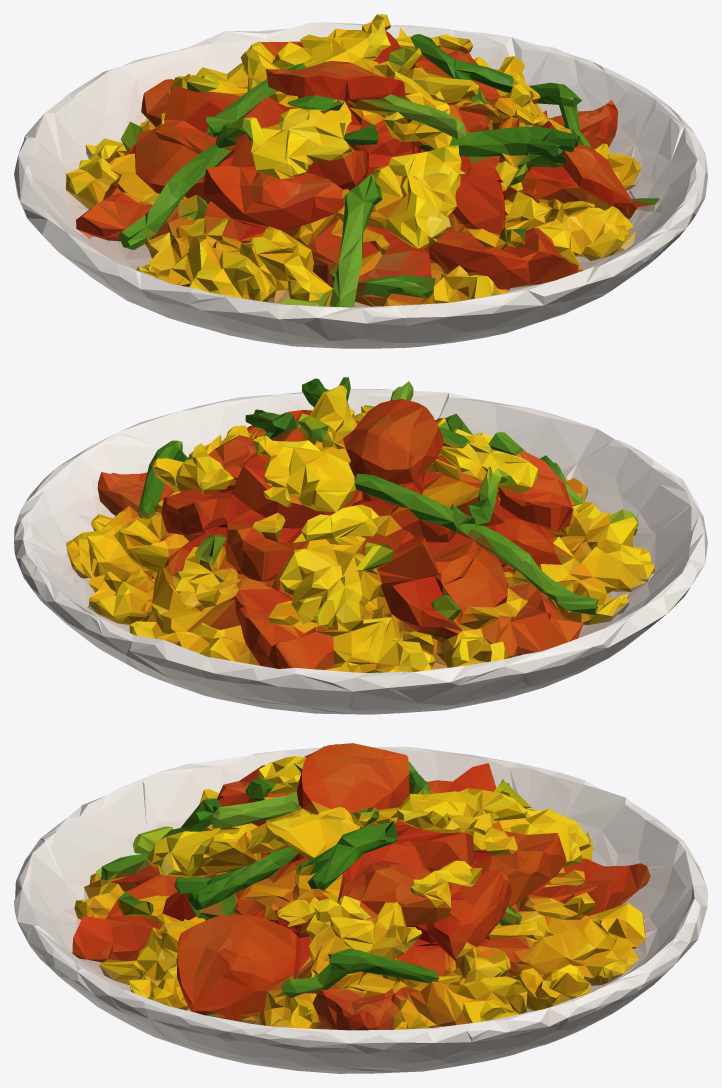
The model's file is tomato_egg.glb.
The picture shows the model from 3 angles, top to bottom: view 1: azimuth 30°, elevation 25°; view 2: azimuth 150°, elevation 25°; view 3: azimuth 270°, elevation 25°; orthographic projection.
Parts seen in each view (by area): view 1: geometry_0; view 2: geometry_0; view 3: geometry_0.
Part boxes in pixels (bbox=[...]): geometry_0: bbox=[14, 14, 707, 348]; geometry_0: bbox=[14, 377, 707, 714]; geometry_0: bbox=[14, 743, 707, 1073].
Bounding box in the file's own units: 0.22 × 0.0685 × 0.2189.
1 material, 1 textured.
